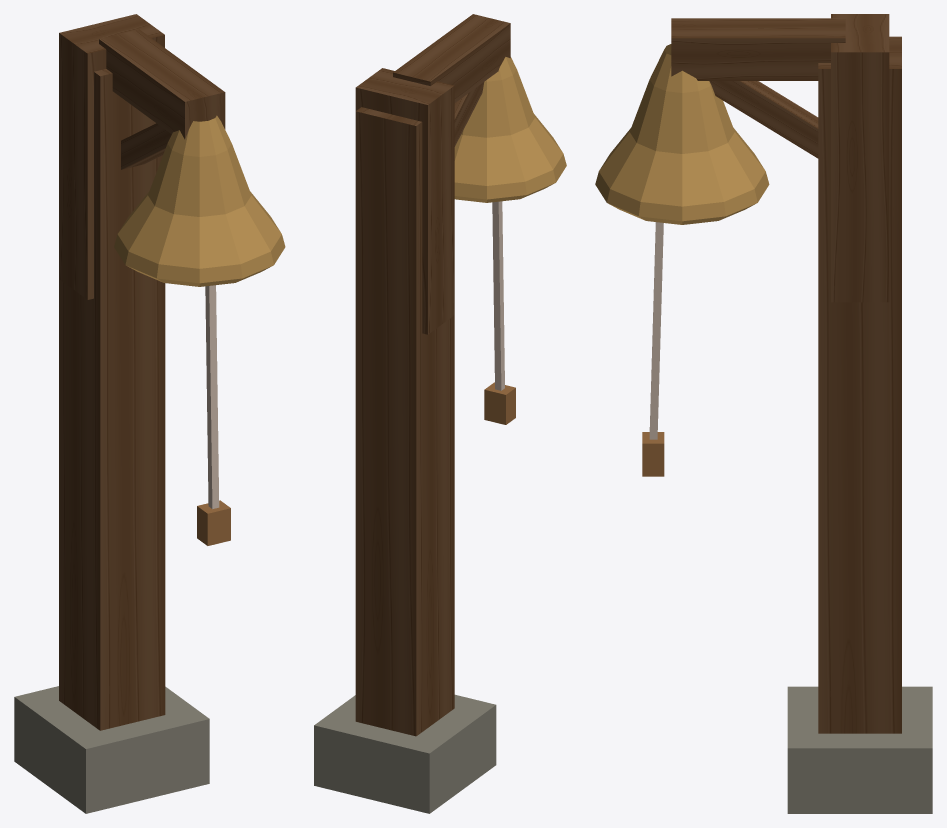
File: BarnBell_B.fbx
3 renders of one model, left to right at view 1: azimuth 30°, elevation 25°; view 2: azimuth 150°, elevation 25°; view 3: azimuth 270°, elevation 25°, orthographic. The views are drawn at different scales.
Parts seen in each view (by area): view 1: BarnB_StandalonePost, BarnB_BellSwing, BarnB_BellSupport; view 2: BarnB_StandalonePost, BarnB_BellSupport, BarnB_BellSwing; view 3: BarnB_StandalonePost, BarnB_BellSupport, BarnB_BellSwing.
Part boxes in pixels (x1,y1,x2,y2): BarnB_StandalonePost: (14,69,209,813); BarnB_BellSwing: (114,115,285,545); BarnB_BellSupport: (59,14,225,299); BarnB_StandalonePost: (314,107,496,813); BarnB_BellSupport: (355,14,510,334); BarnB_BellSwing: (454,57,566,424); BarnB_StandalonePost: (787,36,932,813); BarnB_BellSupport: (671,14,889,302); BarnB_BellSwing: (595,44,769,476).
Bounding box in the file's own units: 0.48 × 2.3 × 0.93.
